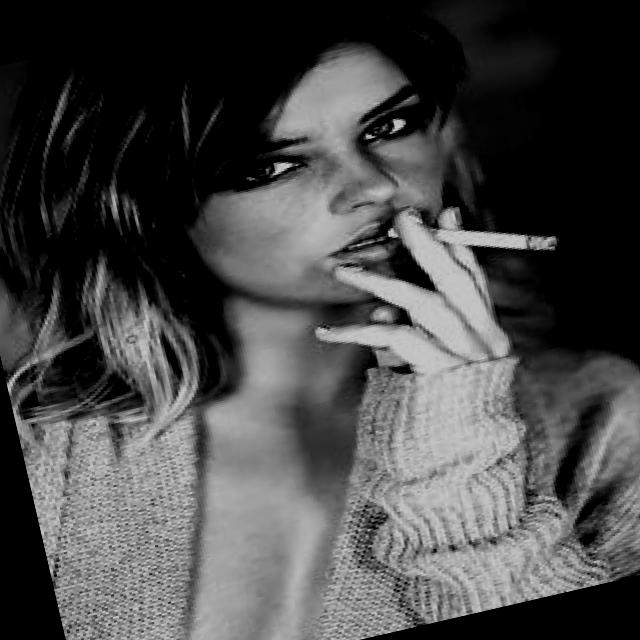cigarette: (405, 192, 568, 285)
